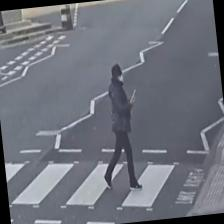person: (91, 62, 146, 193)
